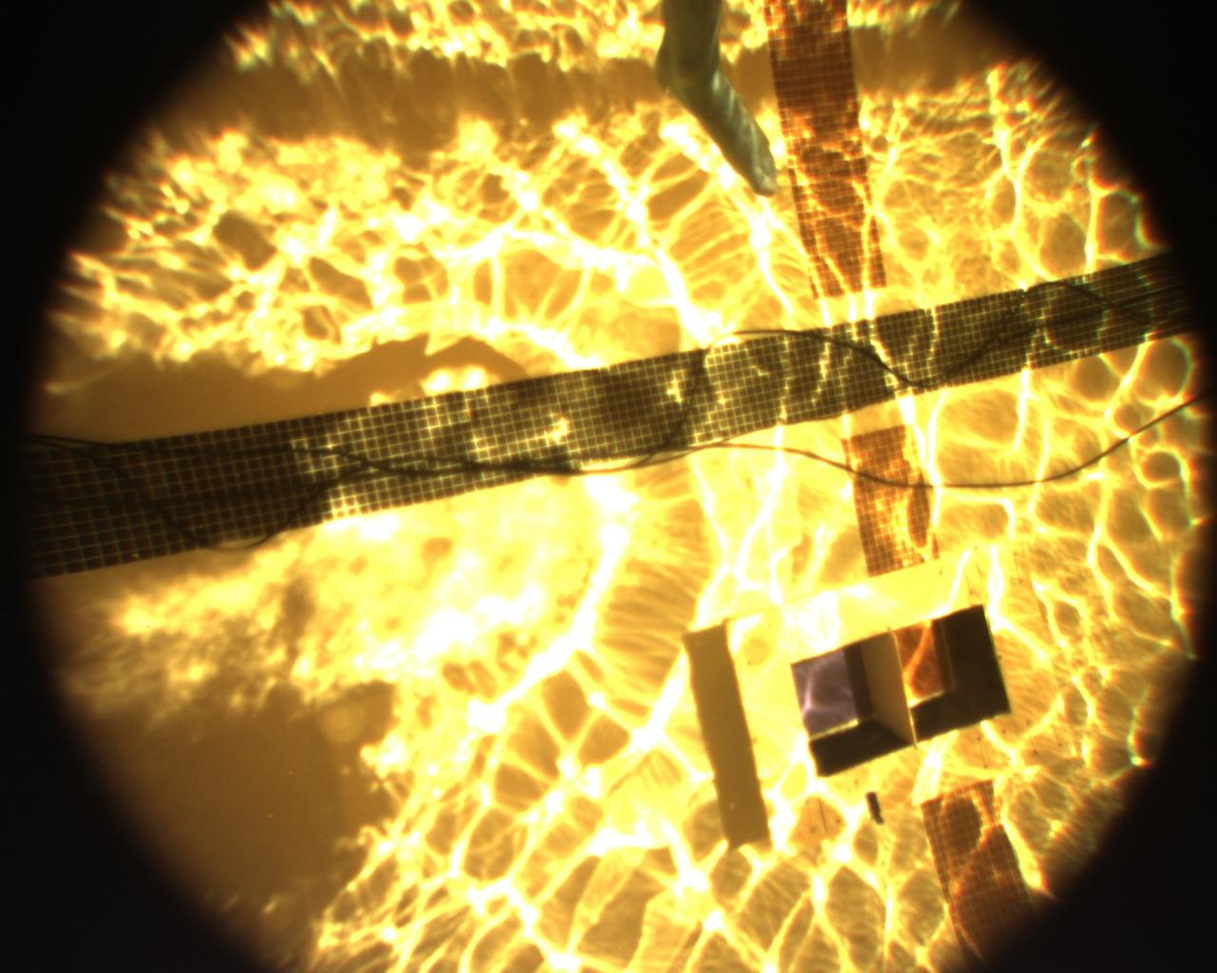dropper-box-top: (706, 542, 1077, 818)
